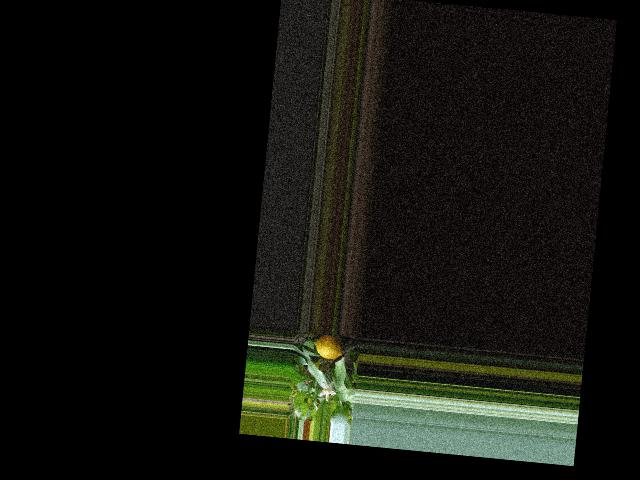lemon: (312, 333, 345, 363)
